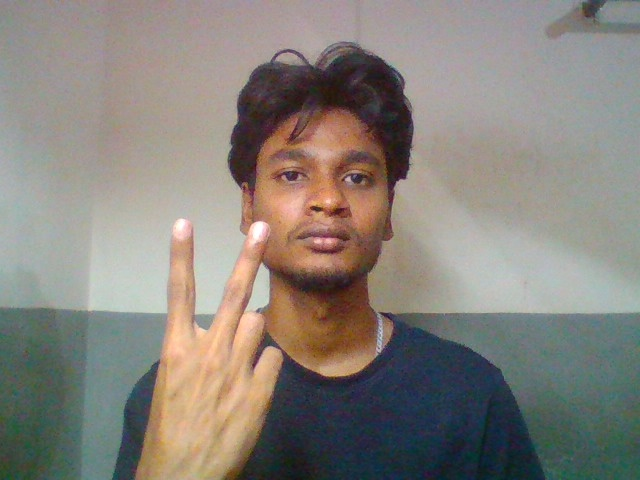V: (137, 212, 280, 480)
